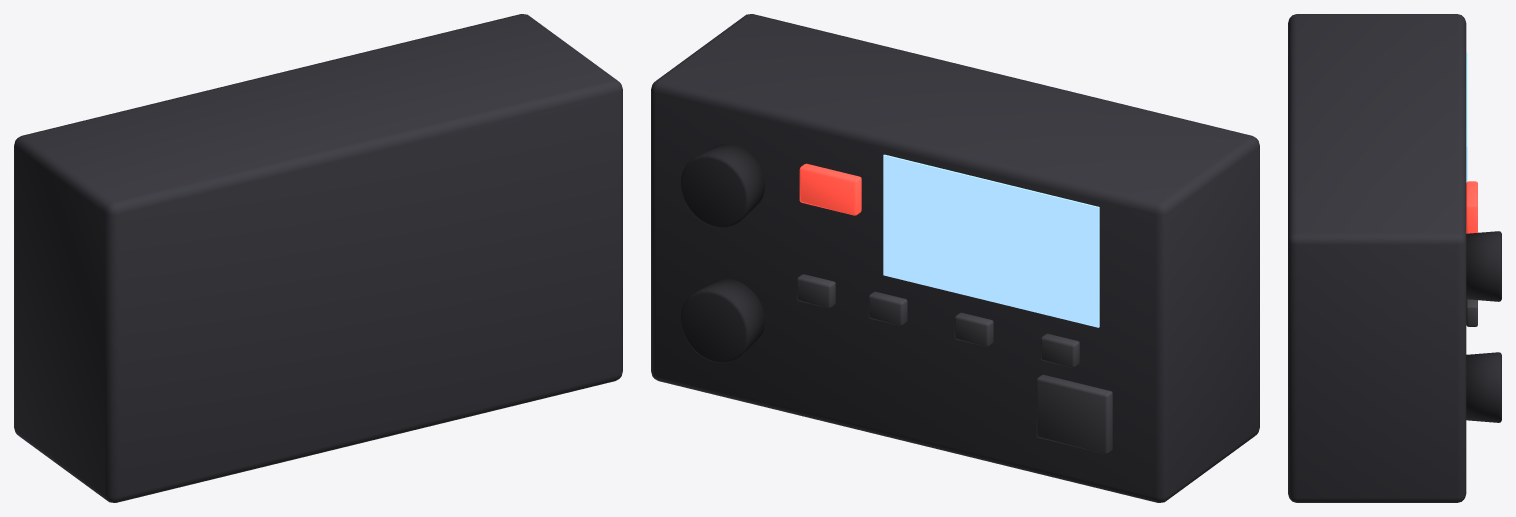
File: VHF_VR_v1.0.glb
3 views of the same model, side by side, from view 1: azimuth 30°, elevation 25°; view 2: azimuth 150°, elevation 25°; view 3: azimuth 270°, elevation 25° (orthographic). The views are drawn at different scales.
Visible parts, largest first — view 1: vhf_body; view 2: vhf_body, vhf_screen, knob_channel, knob_volume, btn_ptt, btn_distress, btn_scan, btn_dual, btn_menu, btn_16; view 3: vhf_body, knob_channel, knob_volume, btn_distress, btn_menu, vhf_screen.
Part boxes in pixels (<box>): vhf_body: <box>14,14,622,502</box>; vhf_body: <box>651,14,1259,502</box>; vhf_screen: <box>883,154,1099,327</box>; knob_channel: <box>680,143,765,227</box>; knob_volume: <box>680,279,765,362</box>; btn_ptt: <box>1036,374,1112,453</box>; btn_distress: <box>799,163,861,215</box>; btn_scan: <box>868,291,907,325</box>; btn_dual: <box>954,312,993,346</box>; btn_menu: <box>797,274,835,308</box>; btn_16: <box>1041,333,1079,367</box>; vhf_body: <box>1288,14,1466,502</box>; knob_channel: <box>1466,231,1501,301</box>; knob_volume: <box>1466,352,1501,422</box>; btn_distress: <box>1466,181,1477,233</box>; btn_menu: <box>1466,299,1477,326</box>; vhf_screen: <box>1466,52,1467,182</box>.
Size of the model in its own units: 0.18 by 0.1 by 0.072.
